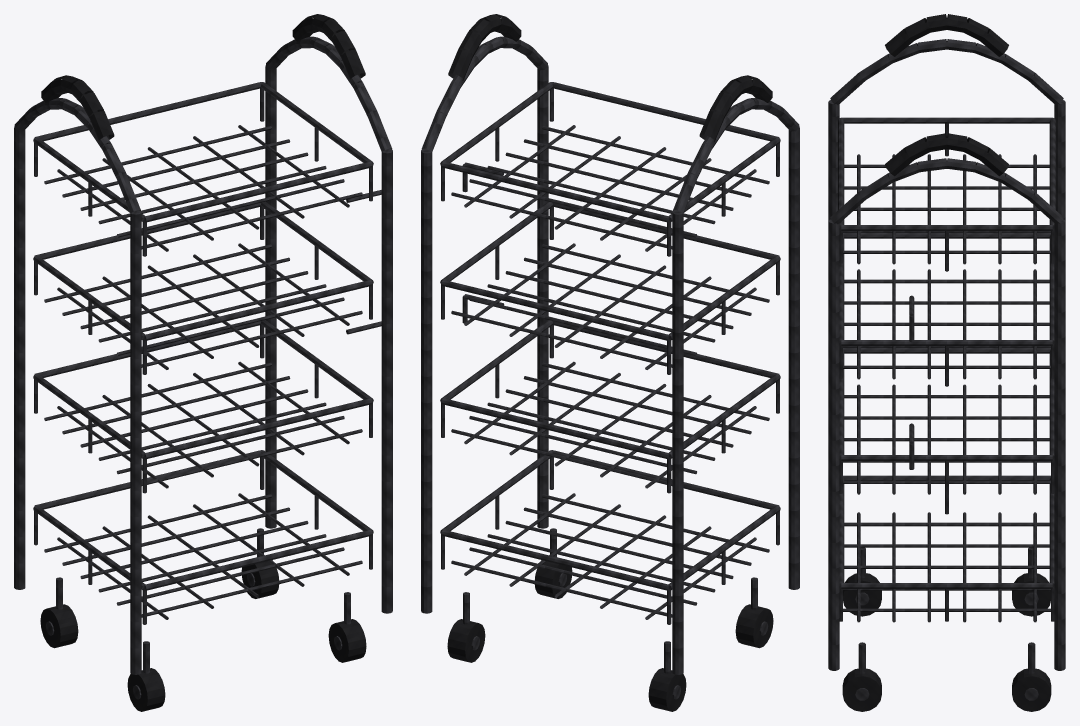
File: cart.glb
The picture shows the model from 3 angles, left to right: view 1: azimuth 30°, elevation 25°; view 2: azimuth 150°, elevation 25°; view 3: azimuth 270°, elevation 25°; orthographic projection. The views are drawn at different scales.
Visible parts, largest first — view 1: cart; view 2: cart; view 3: cart.
Boxes of the visible parts, x1=… form: cart: x1=14, y1=14, x2=392, y2=711; cart: x1=421, y1=14, x2=799, y2=711; cart: x1=828, y1=14, x2=1065, y2=711.
Bounding box in the file's own units: 0.4755 × 0.9168 × 0.336.
Materials: 7 (7 with a texture image).
